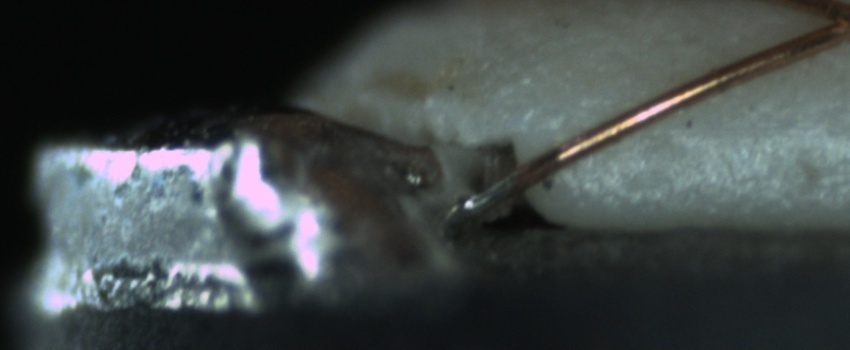CL: (807, 2, 849, 43)
DL: (632, 101, 849, 157)
TS: (450, 171, 516, 221)
